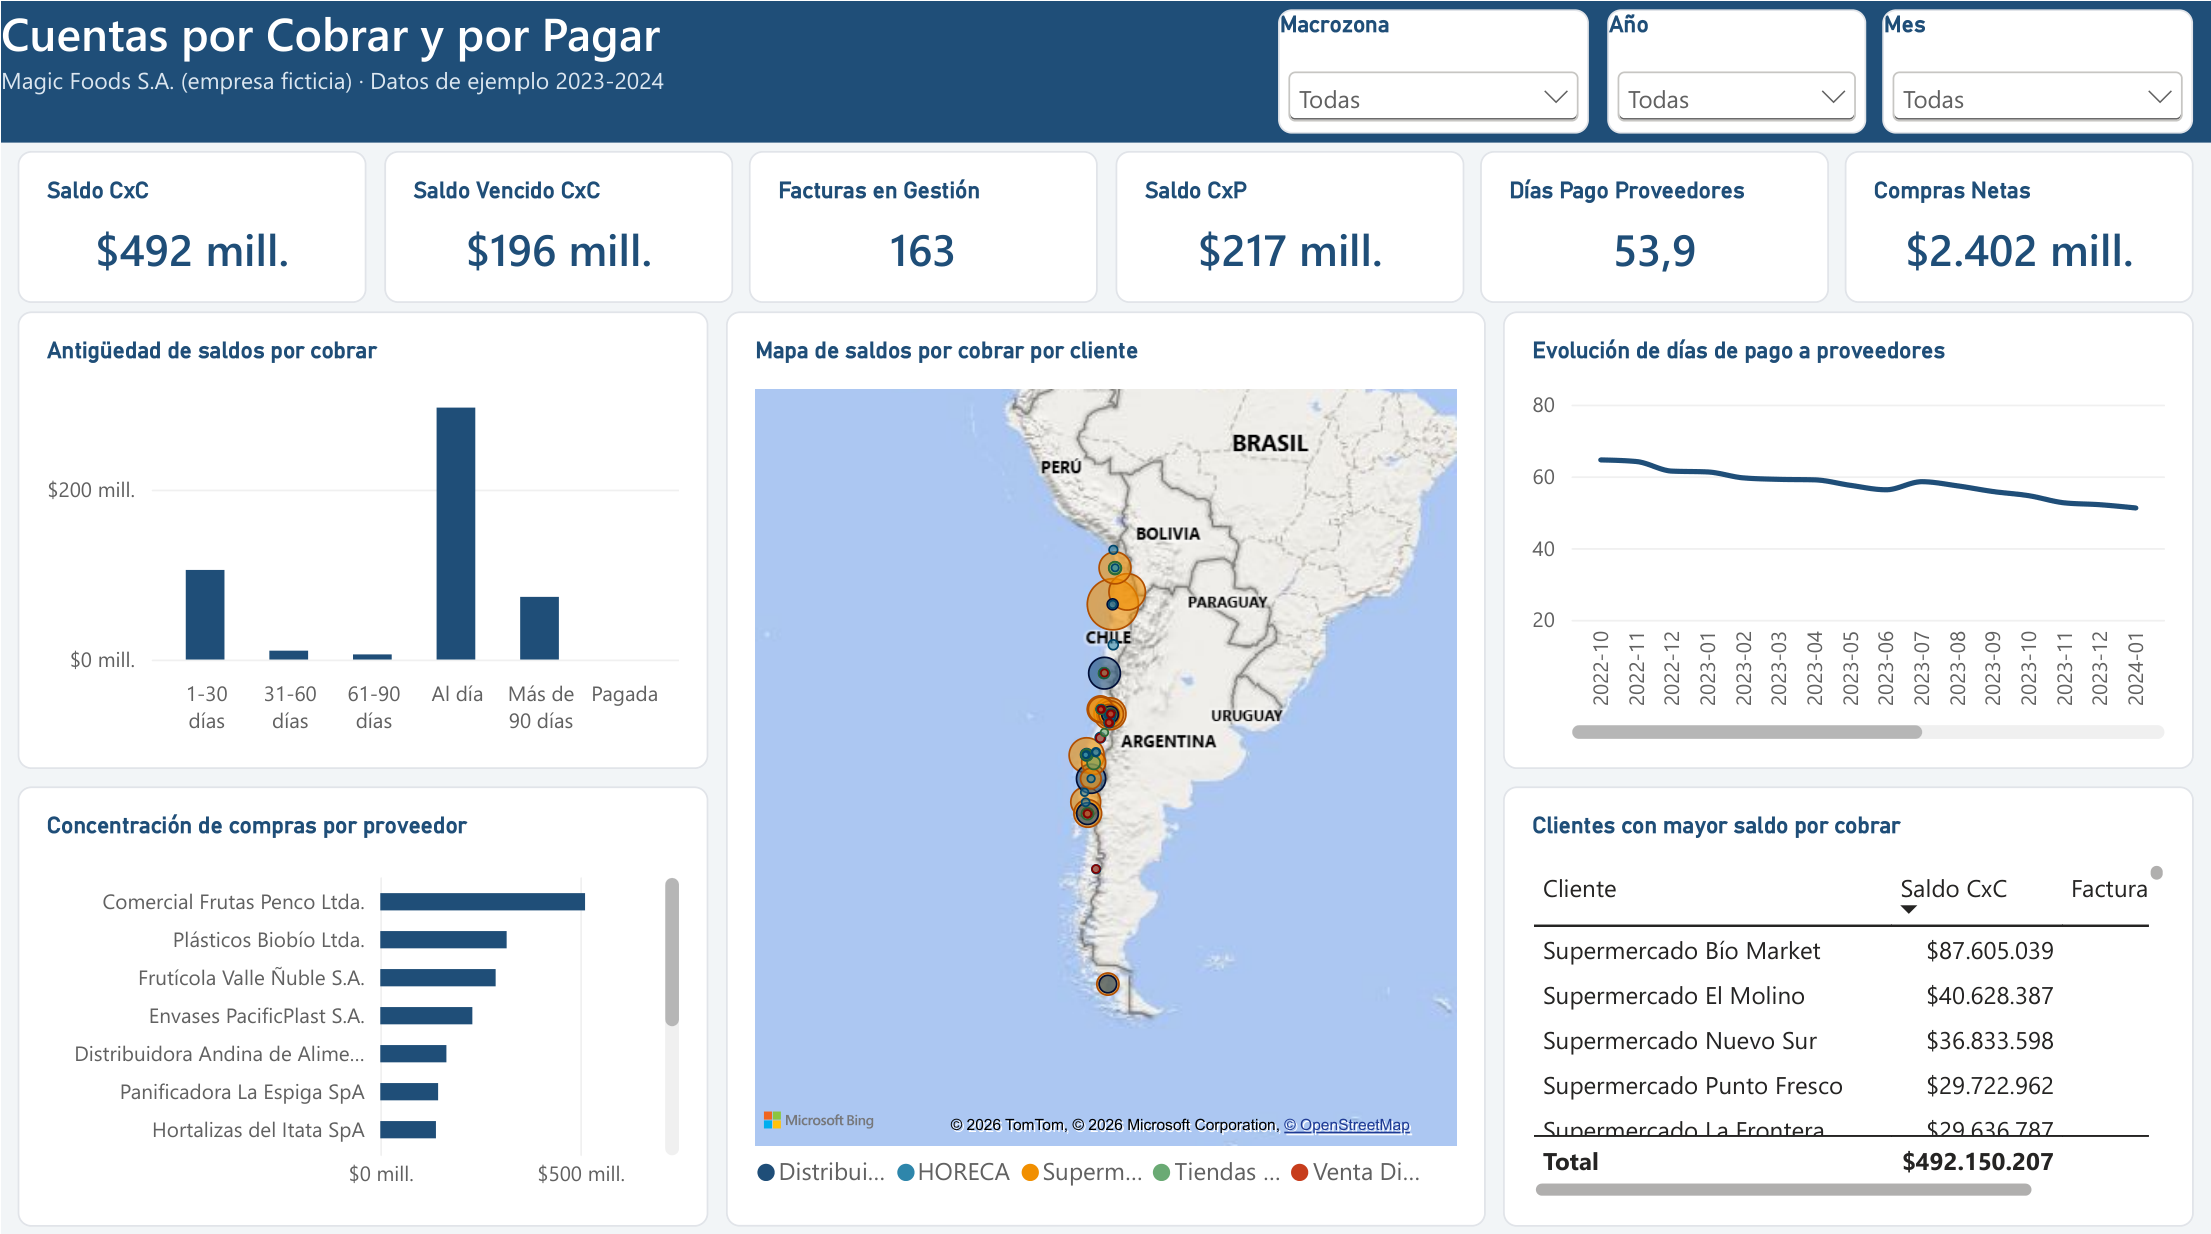

This screenshot's page, from the dashboard's own definition file:
{"tool":"tableau","page":{"name":"Cobranza y Proveedores","canvas":[1280,720],"ordinal":3},"visuals":[{"type":"text","box":[0,0,1280,82]},{"type":"parameter","param":"[Parameters].[pMacro]","box":[740,8,180,66]},{"type":"parameter","param":"[Parameters].[pAnio]","box":[930,8,150,66]},{"type":"parameter","param":"[Parameters].[pMes]","box":[1090,8,180,66]},{"type":"worksheet","title":"B · Saldo CxC","mark":"Text","box":[10,87,202,88]},{"type":"worksheet","title":"B · Saldo Vencido","mark":"Text","box":[222,87,202,88]},{"type":"worksheet","title":"B · Facturas en Gestion","mark":"Text","box":[433,87,202,88]},{"type":"worksheet","title":"B · Saldo CxP","mark":"Text","box":[645,87,202,88]},{"type":"worksheet","title":"B · Dias Pago","mark":"Text","box":[857,87,202,88]},{"type":"worksheet","title":"B · Compras","mark":"Text","box":[1068,87,202,88]},{"type":"worksheet","title":"B · Antiguedad Saldos","mark":"Bar","rows":["SaldoCxC"],"cols":["TramoAntiguedad"],"box":[10,180,400,265]},{"type":"worksheet","title":"B · Mapa CxC","mark":"Circle","rows":["Latitud"],"cols":["Longitud"],"box":[420,180,320,530]},{"type":"worksheet","title":"B · Dias Pago Mensual","mark":"Line","rows":["DiasPago"],"cols":["FechaEmision"],"box":[870,180,400,265]},{"type":"legend","title":"B · Mapa CxC","param":"[federated.e1de5242c0fdf5d5266836a99483].[none:Canal:nk]","box":[740,212,112,490]},{"type":"worksheet","title":"B · Compras por Proveedor","mark":"Bar","rows":["Proveedor"],"cols":["Compras"],"box":[10,455,400,255]},{"type":"worksheet","title":"B · Clientes Mayor Saldo","mark":"Text","rows":["Cliente"],"box":[870,455,400,255]}]}

Visuals, with their boxes in screenshot pixels (x1, y1, x2, y2), scaled from the page's 1280x720 canvas onto the 2211x1234 screenshot:
text: [0, 0, 2210, 141]
parameter: [1278, 14, 1589, 127]
parameter: [1606, 14, 1866, 127]
parameter: [1883, 14, 2194, 127]
"B · Saldo CxC" worksheet (Text marks): [17, 149, 366, 300]
"B · Saldo Vencido" worksheet (Text marks): [383, 149, 732, 300]
"B · Facturas en Gestion" worksheet (Text marks): [748, 149, 1097, 300]
"B · Saldo CxP" worksheet (Text marks): [1114, 149, 1463, 300]
"B · Dias Pago" worksheet (Text marks): [1480, 149, 1829, 300]
"B · Compras" worksheet (Text marks): [1845, 149, 2194, 300]
"B · Antiguedad Saldos" worksheet (Bar marks): [17, 308, 708, 763]
"B · Mapa CxC" worksheet (Circle marks): [725, 308, 1278, 1217]
"B · Dias Pago Mensual" worksheet (Line marks): [1503, 308, 2194, 763]
"B · Mapa CxC" legend: [1278, 363, 1472, 1203]
"B · Compras por Proveedor" worksheet (Bar marks): [17, 780, 708, 1217]
"B · Clientes Mayor Saldo" worksheet (Text marks): [1503, 780, 2194, 1217]
